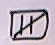kok: (2, 2, 52, 45)
